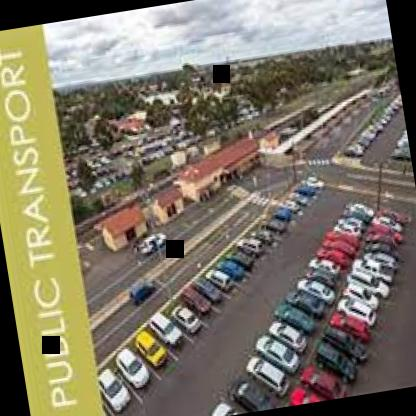car: (240, 342, 296, 402), (123, 314, 170, 382), (106, 334, 153, 400), (298, 354, 354, 403), (92, 363, 138, 416), (146, 302, 186, 362), (166, 292, 206, 345), (338, 286, 380, 336), (174, 274, 214, 324), (268, 311, 310, 357), (282, 282, 328, 324), (188, 260, 224, 310), (115, 272, 164, 308), (206, 244, 236, 302), (317, 234, 353, 276), (224, 234, 249, 292), (133, 228, 174, 256), (240, 228, 266, 265)
